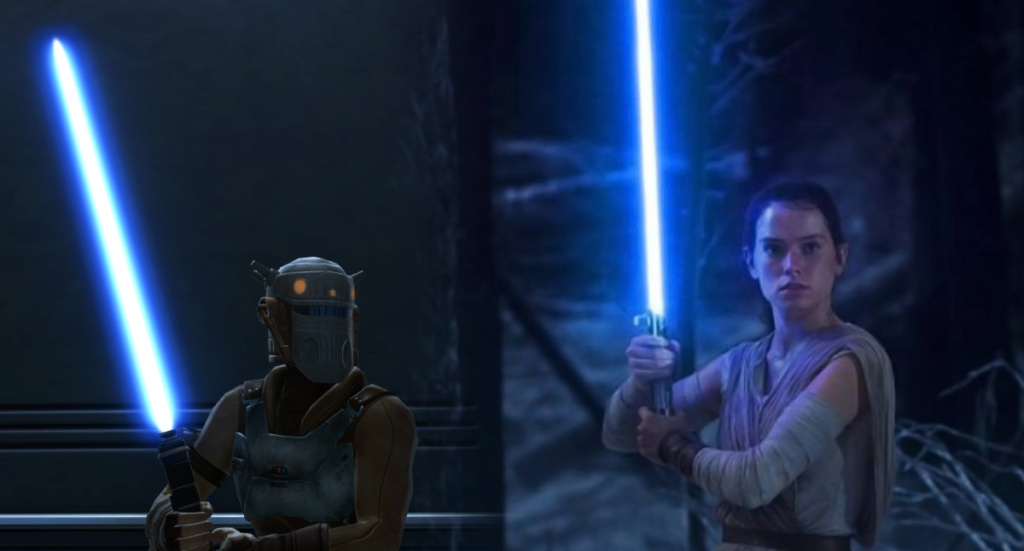lightsaber: (40, 23, 198, 528), (589, 0, 689, 474)
